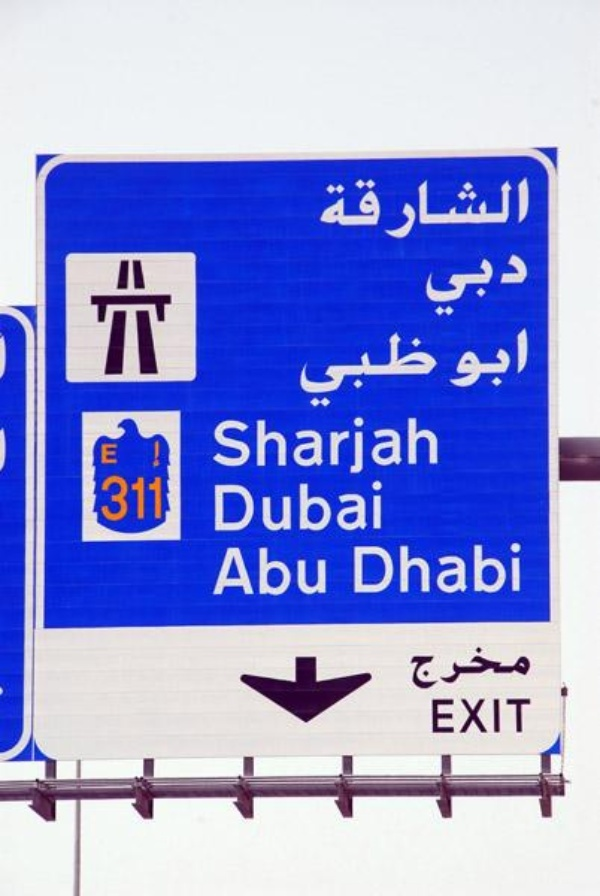text: (305, 331, 320, 410), (321, 331, 336, 410), (337, 331, 352, 410), (353, 331, 368, 410), (369, 331, 384, 410), (385, 331, 400, 410), (401, 331, 416, 410), (417, 331, 432, 410), (465, 323, 480, 401), (481, 323, 496, 401), (497, 323, 512, 401), (513, 323, 528, 401), (513, 254, 529, 322), (433, 254, 448, 322), (449, 254, 464, 322), (465, 254, 480, 322), (481, 254, 496, 322), (497, 254, 512, 322), (321, 177, 336, 242), (337, 177, 352, 242), (353, 177, 368, 242), (369, 177, 384, 242), (385, 177, 400, 242), (401, 177, 416, 242), (417, 177, 432, 242), (433, 177, 448, 242), (449, 177, 464, 242), (465, 177, 480, 242), (481, 177, 496, 242), (497, 177, 512, 242), (513, 177, 528, 242), (225, 416, 240, 477), (241, 416, 256, 477), (257, 416, 272, 477), (273, 416, 288, 477), (289, 416, 304, 477), (305, 416, 320, 477), (321, 416, 336, 477), (337, 416, 352, 477), (353, 416, 368, 477), (369, 416, 384, 477), (385, 416, 400, 477), (401, 416, 416, 477), (417, 416, 432, 477), (225, 480, 240, 537), (241, 480, 256, 537), (257, 480, 272, 537), (273, 480, 288, 537), (289, 480, 304, 537), (305, 480, 320, 537), (321, 480, 336, 537), (337, 480, 352, 537), (353, 480, 368, 537), (369, 480, 384, 537), (353, 541, 368, 596), (369, 541, 384, 596), (385, 541, 400, 596), (401, 541, 416, 596), (417, 541, 432, 596), (433, 541, 448, 596), (449, 541, 464, 596), (465, 541, 480, 596), (481, 541, 496, 596), (497, 541, 512, 596), (225, 544, 240, 599), (241, 544, 256, 599), (257, 544, 272, 599), (273, 544, 288, 599), (289, 544, 304, 599), (305, 544, 320, 599), (420, 254, 432, 322), (113, 472, 128, 525), (129, 472, 144, 525), (145, 472, 160, 525), (211, 416, 224, 477), (454, 323, 464, 401), (98, 472, 112, 525), (433, 331, 441, 410), (417, 647, 432, 689), (433, 647, 448, 689), (449, 647, 464, 689), (465, 647, 480, 689), (481, 647, 496, 689), (497, 647, 512, 689), (513, 647, 528, 689), (433, 696, 448, 738), (449, 696, 464, 738), (465, 696, 480, 738), (481, 696, 496, 738), (497, 696, 512, 738), (513, 696, 528, 738), (214, 480, 224, 537), (513, 541, 523, 596), (433, 416, 442, 477), (215, 544, 224, 599), (148, 438, 160, 472), (299, 331, 304, 410), (321, 544, 327, 599), (99, 443, 112, 468), (529, 323, 533, 401), (161, 472, 165, 525), (411, 647, 416, 689), (113, 443, 120, 468), (529, 696, 533, 738), (161, 438, 165, 472), (529, 177, 530, 242), (351, 541, 352, 596), (529, 647, 530, 689)
